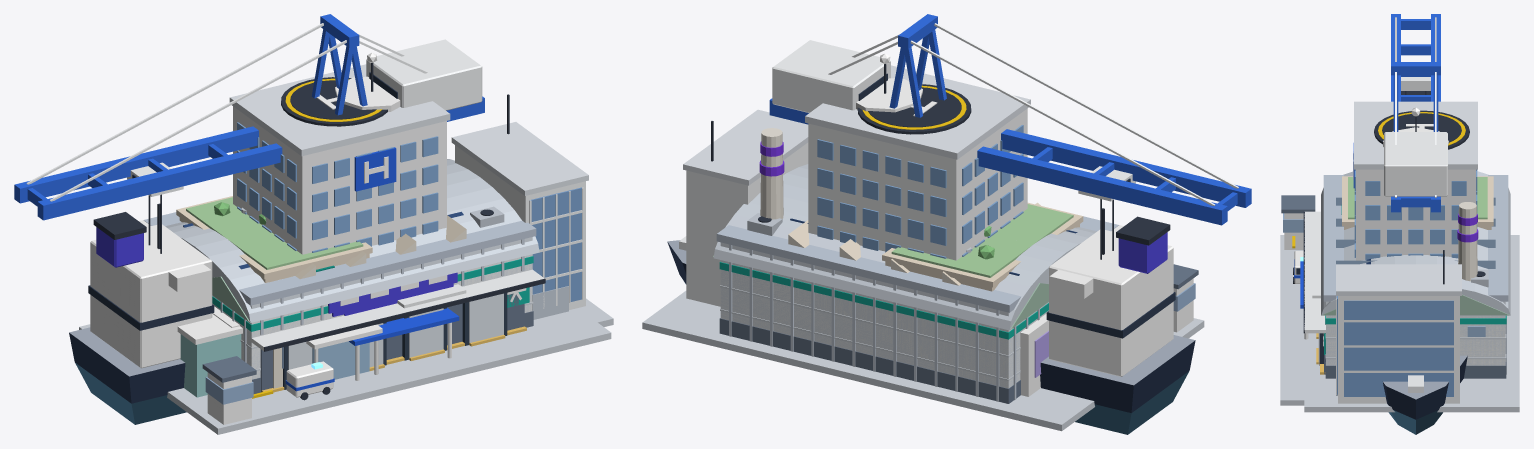
The model's file is supplyshock.glb.
3 renders of one model, left to right at view 1: azimuth 30°, elevation 25°; view 2: azimuth 150°, elevation 25°; view 3: azimuth 270°, elevation 25°, orthographic. The views are drawn at different scales.
Parts seen in each view (by area): view 1: hospital_tower, hub_central, hub_north, port_crane, ship_hull, hub_south, hospital_campus, factory, port_tower; view 2: hub_central, hospital_tower, hub_north, ship_hull, port_crane, hub_south, hospital_campus, factory, port_tower; view 3: hub_central, hospital_tower, port_crane, hub_north, hub_south, factory, ship_hull, hospital_campus.
Boxes of the visible parts, x1=… form: hospital_tower: x1=229, y1=64, x2=459, y2=400; hub_central: x1=143, y1=94, x2=613, y2=392; hub_north: x1=87, y1=159, x2=609, y2=412; port_crane: x1=14, y1=14, x2=484, y2=253; ship_hull: x1=69, y1=203, x2=214, y2=424; hub_south: x1=79, y1=249, x2=611, y2=434; hospital_campus: x1=176, y1=196, x2=533, y2=405; factory: x1=212, y1=207, x2=572, y2=406; port_tower: x1=335, y1=52, x2=400, y2=111; hub_central: x1=642, y1=109, x2=1118, y2=414; hospital_tower: x1=805, y1=65, x2=1030, y2=260; hub_north: x1=646, y1=164, x2=1096, y2=429; ship_hull: x1=667, y1=208, x2=1195, y2=434; port_crane: x1=769, y1=14, x2=1251, y2=259; hub_south: x1=713, y1=255, x2=1204, y2=431; hospital_campus: x1=882, y1=202, x2=1083, y2=291; factory: x1=759, y1=128, x2=1048, y2=410; port_tower: x1=856, y1=53, x2=922, y2=112; hub_central: x1=1303, y1=175, x2=1519, y2=412; hospital_tower: x1=1293, y1=101, x2=1477, y2=339; port_crane: x1=1384, y1=14, x2=1447, y2=212; hub_north: x1=1304, y1=171, x2=1519, y2=405; hub_south: x1=1280, y1=195, x2=1519, y2=405; factory: x1=1304, y1=197, x2=1515, y2=389; ship_hull: x1=1383, y1=91, x2=1467, y2=434; hospital_campus: x1=1288, y1=176, x2=1507, y2=369.
Size of the model in its own units: 27.7 by 15.6 by 12.
